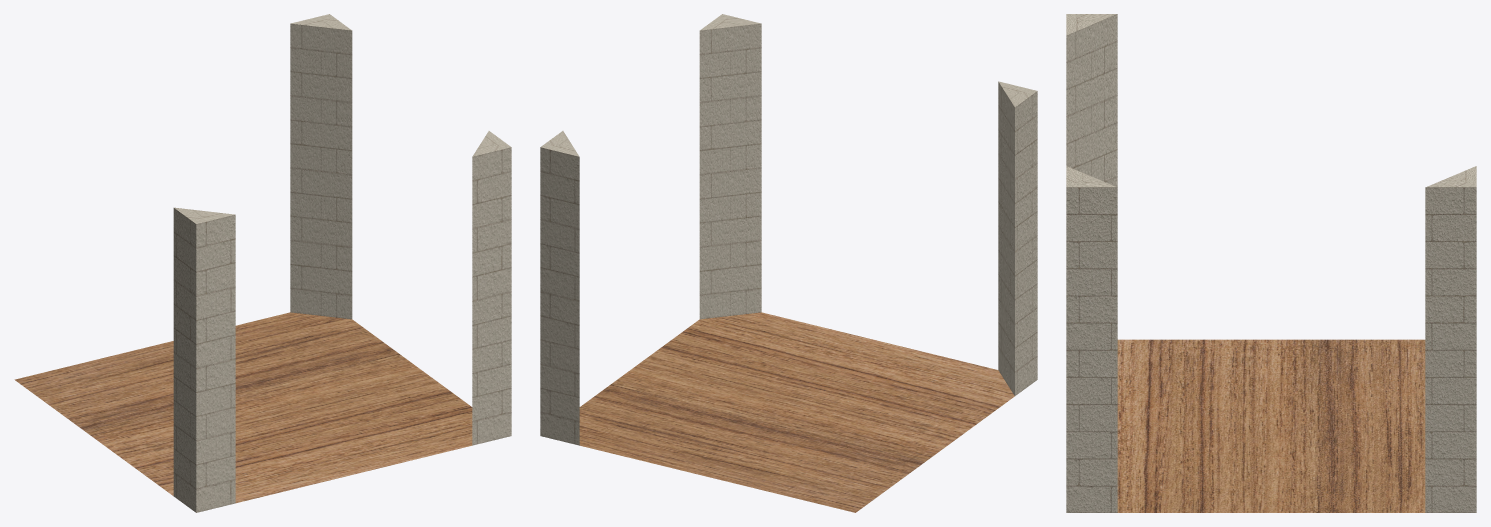
Rendered from 3corner.obj.
3 renders of one model, left to right at view 1: azimuth 30°, elevation 25°; view 2: azimuth 150°, elevation 25°; view 3: azimuth 270°, elevation 25°, orthographic. The views are drawn at different scales.
Visible parts, largest first — view 1: Plane.007_Plane.011, Cube.011_Cube.018, Cube.013_Cube.020, Cube.012_Cube.019; view 2: Plane.007_Plane.011, Cube.012_Cube.019, Cube.011_Cube.018, Cube.013_Cube.020; view 3: Plane.007_Plane.011, Cube.011_Cube.018, Cube.012_Cube.019, Cube.013_Cube.020.
Boxes of the visible parts, x1=… form: Plane.007_Plane.011: x1=14, y1=312, x2=472, y2=503; Cube.011_Cube.018: x1=290, y1=14, x2=352, y2=319; Cube.013_Cube.020: x1=173, y1=207, x2=235, y2=512; Cube.012_Cube.019: x1=472, y1=131, x2=511, y2=445; Plane.007_Plane.011: x1=579, y1=312, x2=1014, y2=512; Cube.012_Cube.019: x1=699, y1=14, x2=761, y2=319; Cube.011_Cube.018: x1=540, y1=131, x2=579, y2=445; Cube.013_Cube.020: x1=998, y1=81, x2=1037, y2=395; Plane.007_Plane.011: x1=1117, y1=339, x2=1425, y2=512; Cube.011_Cube.018: x1=1425, y1=166, x2=1476, y2=512; Cube.012_Cube.019: x1=1066, y1=166, x2=1117, y2=512; Cube.013_Cube.020: x1=1066, y1=14, x2=1117, y2=187.
Bounding box in the file's own units: 8 × 7 × 8.
